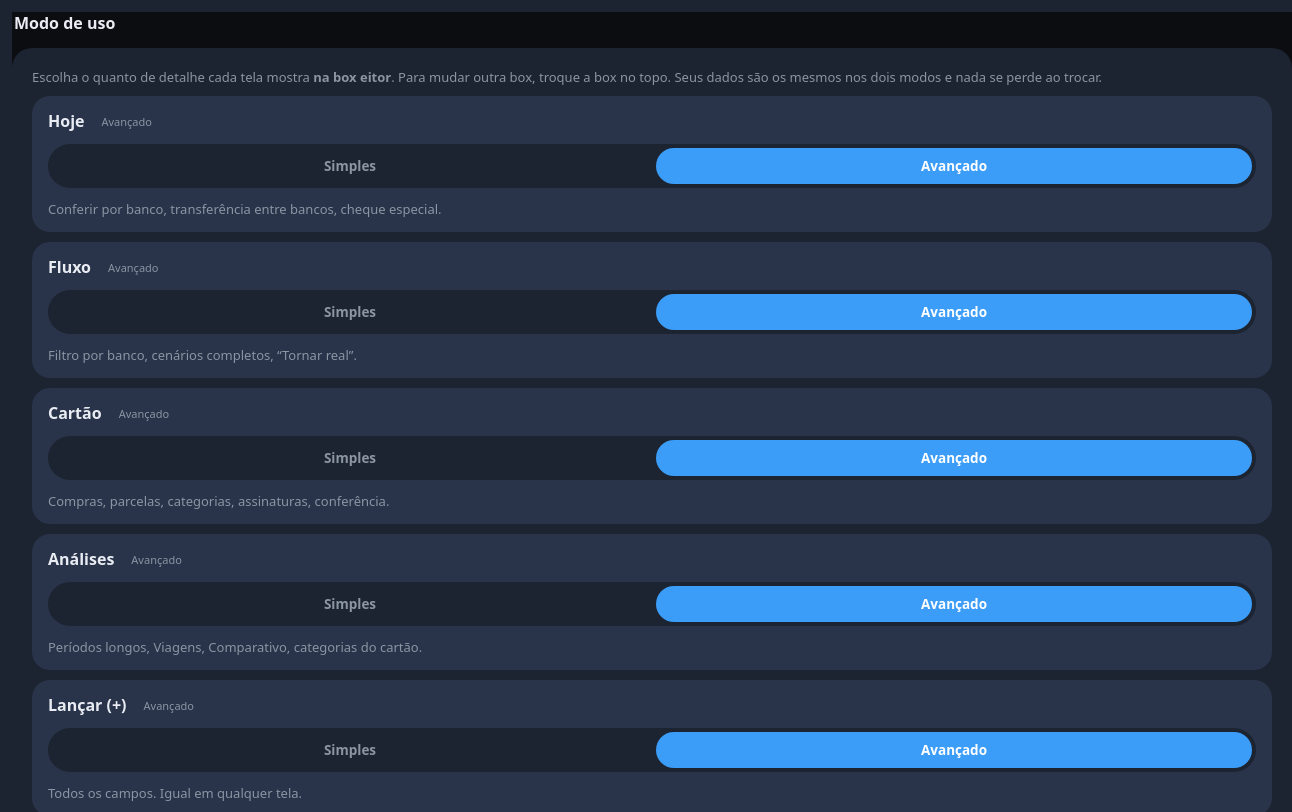
Test: ModoDeUso › clicar em Simples no Hoje grava só o modo do Hoje e mostra o selo
Step 1. Click the button "Simples" below "Hoje" → (350, 166), box top-left (52, 148), bottom-right (648, 184)
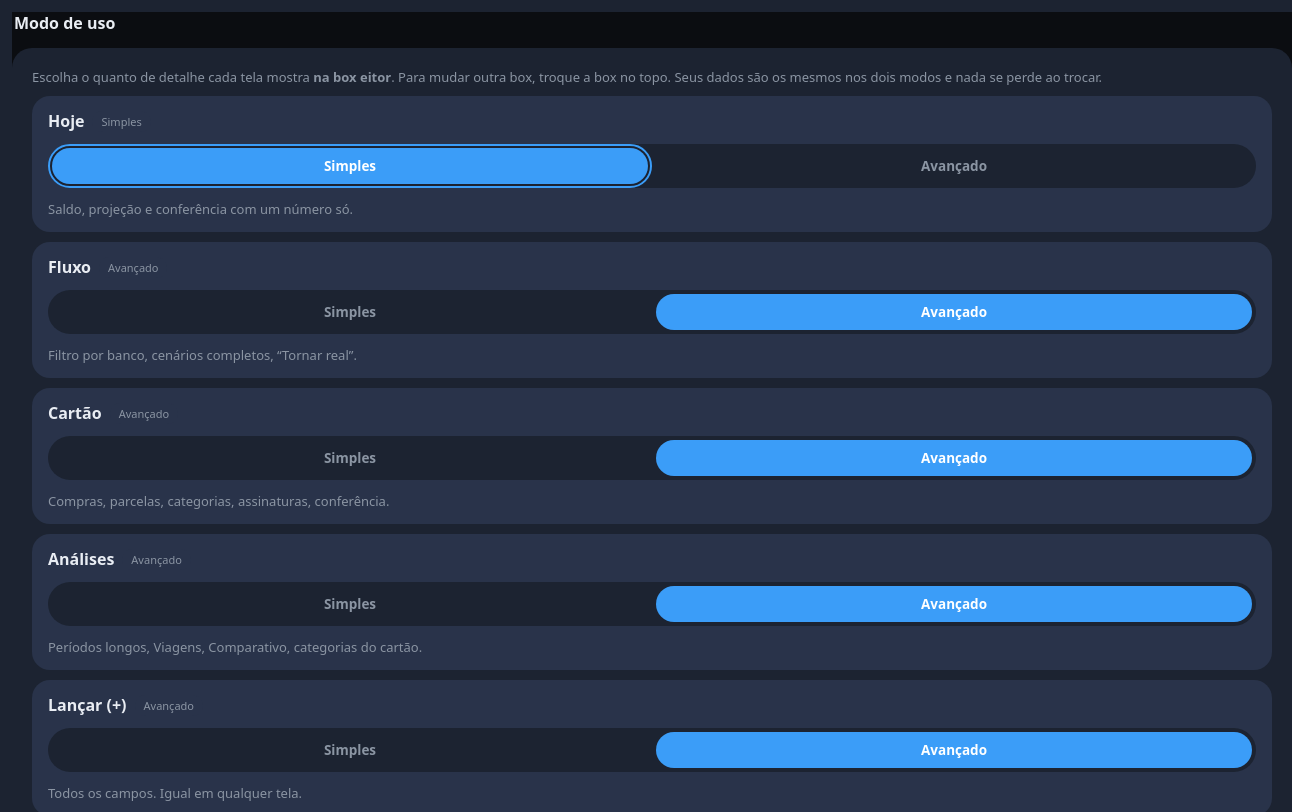
Now the text "Simples" is shown, box top-left (92, 110), bottom-right (151, 132)
Now the text "Saldo, projeção e conferência com um número só." is shown, box top-left (48, 200), bottom-right (353, 218)
